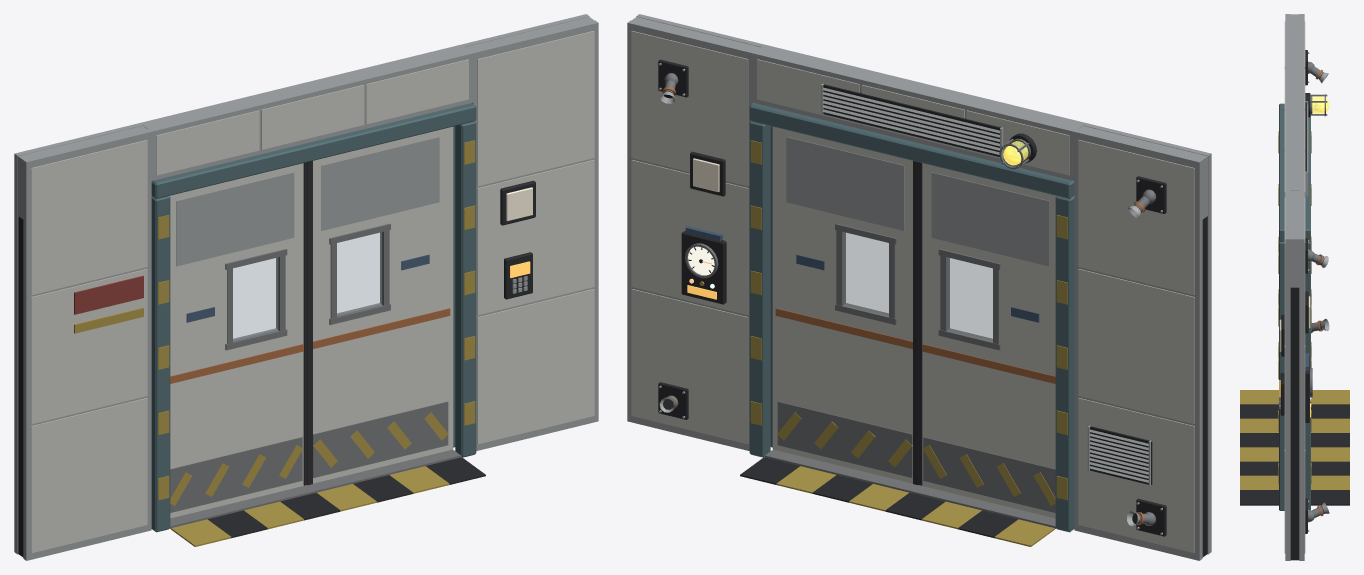
File: astro_airlock_bulkhead.fbx
3 renders of one model, left to right at view 1: azimuth 30°, elevation 25°; view 2: azimuth 150°, elevation 25°; view 3: azimuth 270°, elevation 25°, orthographic. The views are drawn at different scales.
Visible parts, largest first — view 1: AirlockBulkhead_Body, AirlockBulkhead_LeafB, AirlockBulkhead_LeafA, AirlockBulkhead_LampRoom; view 2: AirlockBulkhead_Body, AirlockBulkhead_LeafB, AirlockBulkhead_LeafA, AirlockBulkhead_PressureGauge, AirlockBulkhead_Beacon, AirlockBulkhead_LampChamber; view 3: AirlockBulkhead_Body, AirlockBulkhead_Beacon, AirlockBulkhead_PressureGauge, AirlockBulkhead_VentNozzle_3, AirlockBulkhead_VentNozzle_2, AirlockBulkhead_VentNozzle_1, AirlockBulkhead_VentNozzle_4.
Boxes of the visible parts, x1=… form: AirlockBulkhead_Body: x1=14, y1=14, x2=598, y2=560; AirlockBulkhead_LeafB: x1=307, y1=126, x2=453, y2=485; AirlockBulkhead_LeafA: x1=169, y1=162, x2=307, y2=518; AirlockBulkhead_LampRoom: x1=506, y1=187, x2=532, y2=221; AirlockBulkhead_Body: x1=627, y1=14, x2=1211, y2=560; AirlockBulkhead_LeafB: x1=772, y1=126, x2=918, y2=485; AirlockBulkhead_LeafA: x1=918, y1=162, x2=1056, y2=518; AirlockBulkhead_PressureGauge: x1=681, y1=226, x2=726, y2=304; AirlockBulkhead_Beacon: x1=999, y1=133, x2=1036, y2=169; AirlockBulkhead_LampChamber: x1=693, y1=158, x2=719, y2=192; AirlockBulkhead_Body: x1=1240, y1=14, x2=1349, y2=560; AirlockBulkhead_Beacon: x1=1305, y1=93, x2=1329, y2=117; AirlockBulkhead_PressureGauge: x1=1305, y1=353, x2=1312, y2=422; AirlockBulkhead_VentNozzle_3: x1=1311, y1=318, x2=1329, y2=331; AirlockBulkhead_VentNozzle_2: x1=1312, y1=253, x2=1328, y2=267; AirlockBulkhead_VentNozzle_1: x1=1310, y1=66, x2=1328, y2=83; AirlockBulkhead_VentNozzle_4: x1=1311, y1=502, x2=1329, y2=517.
Bounding box in the file's own units: 826 × 550 × 170.
